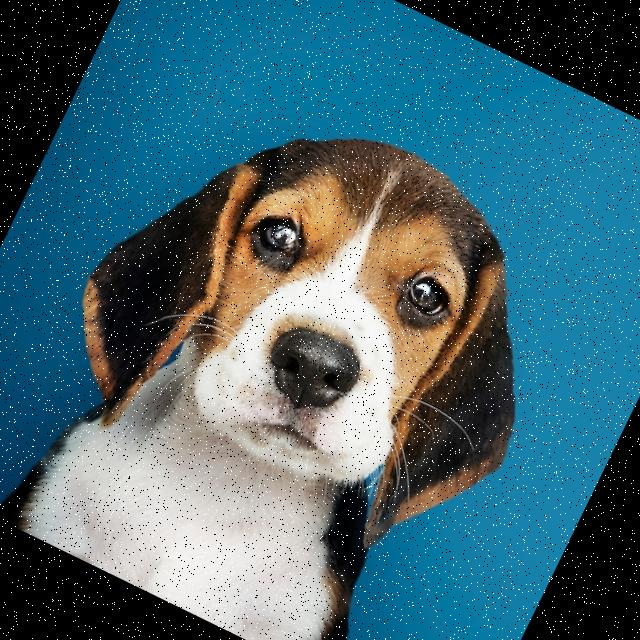Dog: (0, 51, 607, 640)
